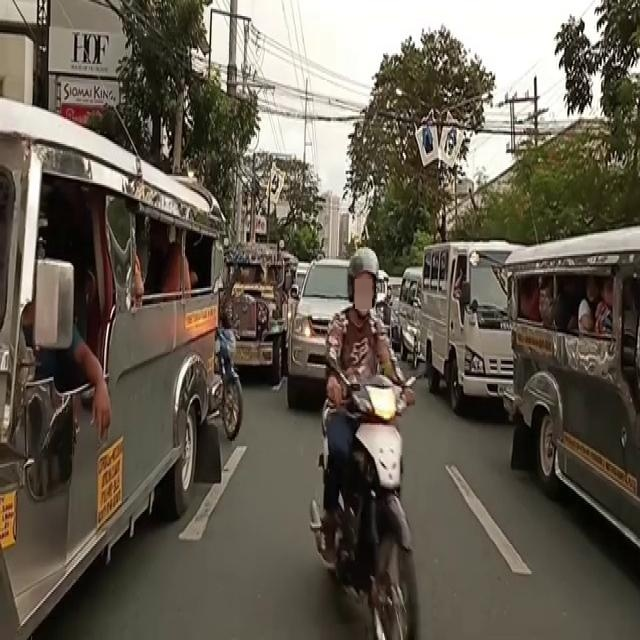car: (435, 247, 511, 406), (295, 256, 351, 412)
jeepney: (0, 140, 220, 620), (517, 239, 640, 541), (225, 255, 291, 388)
motorcycle: (324, 269, 414, 608)
